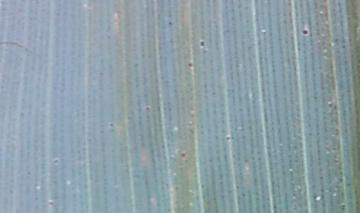tarspot: (196, 40, 207, 48), (301, 28, 310, 37), (165, 19, 174, 28), (186, 59, 194, 69), (144, 104, 152, 113), (179, 151, 187, 159), (47, 198, 54, 207), (108, 122, 116, 129), (224, 135, 231, 142)
